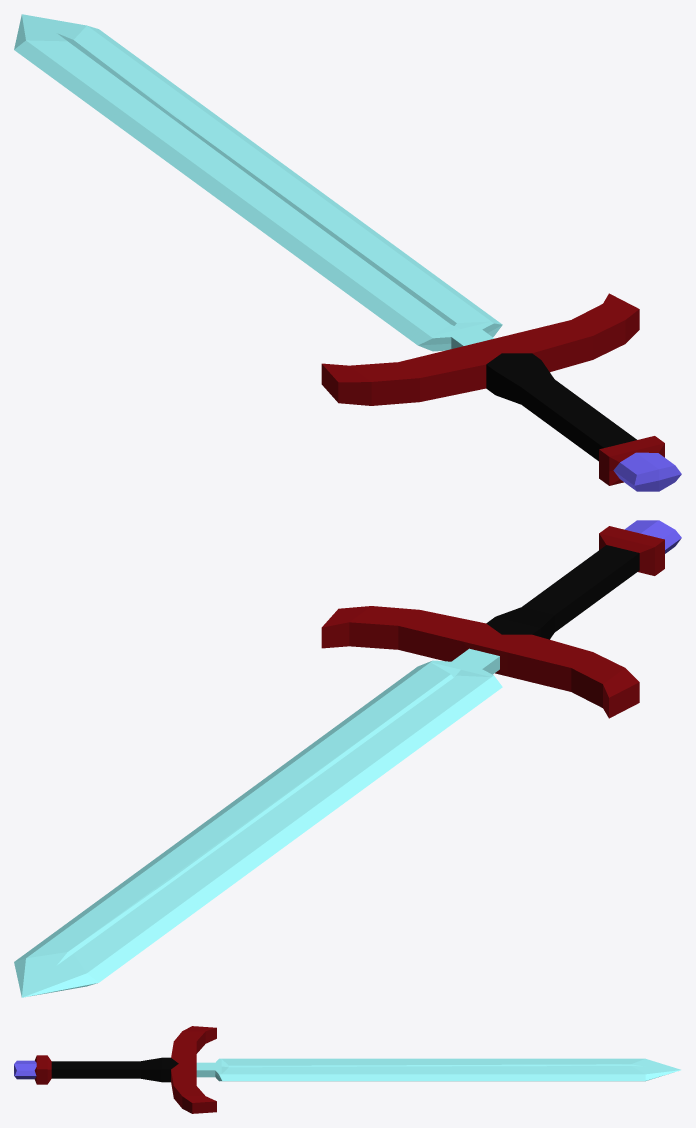
The model's file is sword.fbx.
3 views of the same model, one above another, from view 1: azimuth 30°, elevation 25°; view 2: azimuth 150°, elevation 25°; view 3: azimuth 270°, elevation 25° (orthographic). The views are drawn at different scales.
Visible parts, largest first — view 1: color sword; view 2: color sword; view 3: color sword.
Boxes of the visible parts, box(x1,y1,x2,y2) form: color sword: box(14, 14, 681, 491); color sword: box(14, 520, 681, 997); color sword: box(14, 1026, 680, 1113).
Size of the model in its own units: 85.79 by 7.95 by 314.
